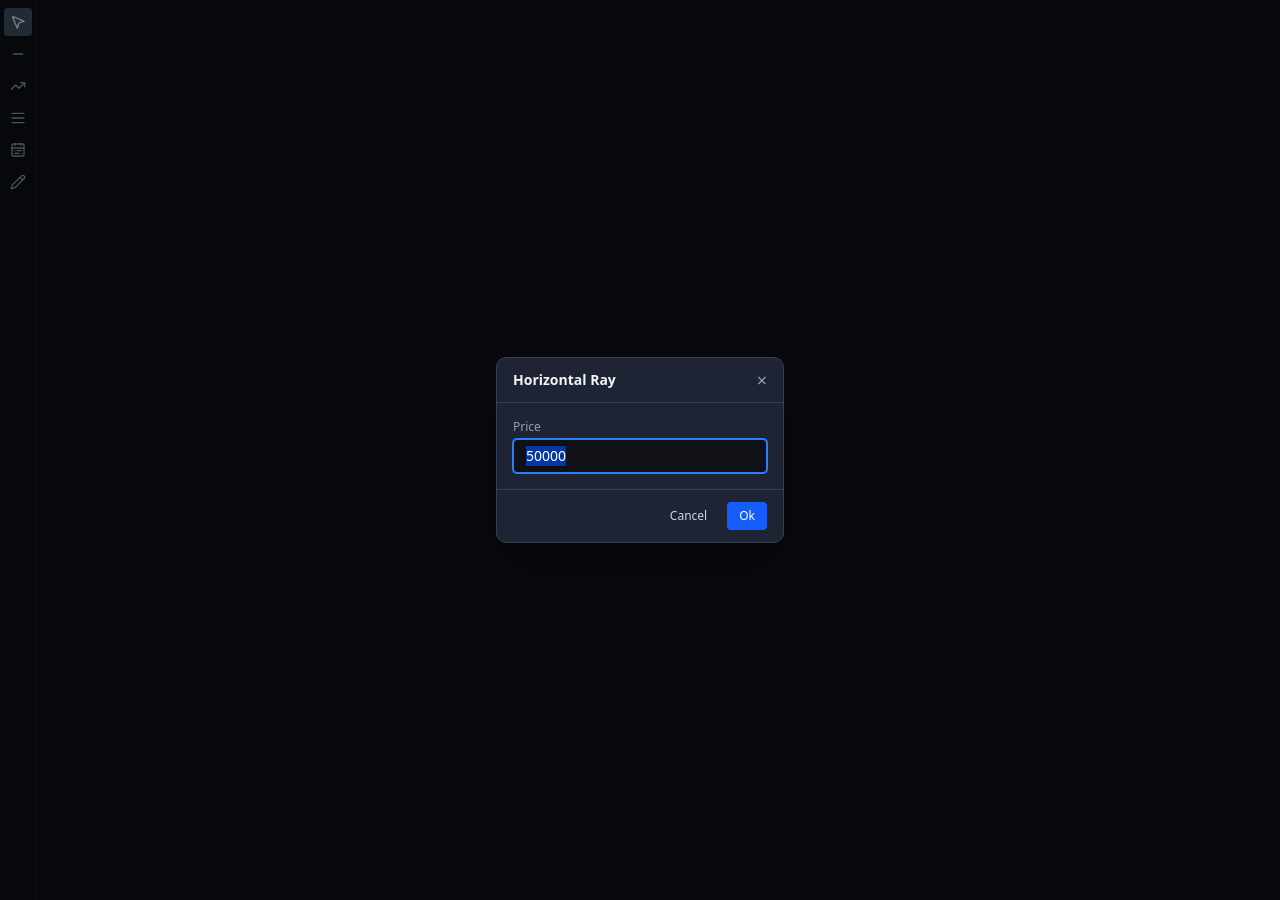
Test: DrawingEditDialog integration — horizontal_ray › cancelling closes the dialog without updating the store
This screenshot has width=1280, height=900.
Expected: the heading "Horizontal Ray" is shown, [513, 370, 616, 390]
Click the button "Cancel" at (689, 516), box [658, 502, 719, 530]
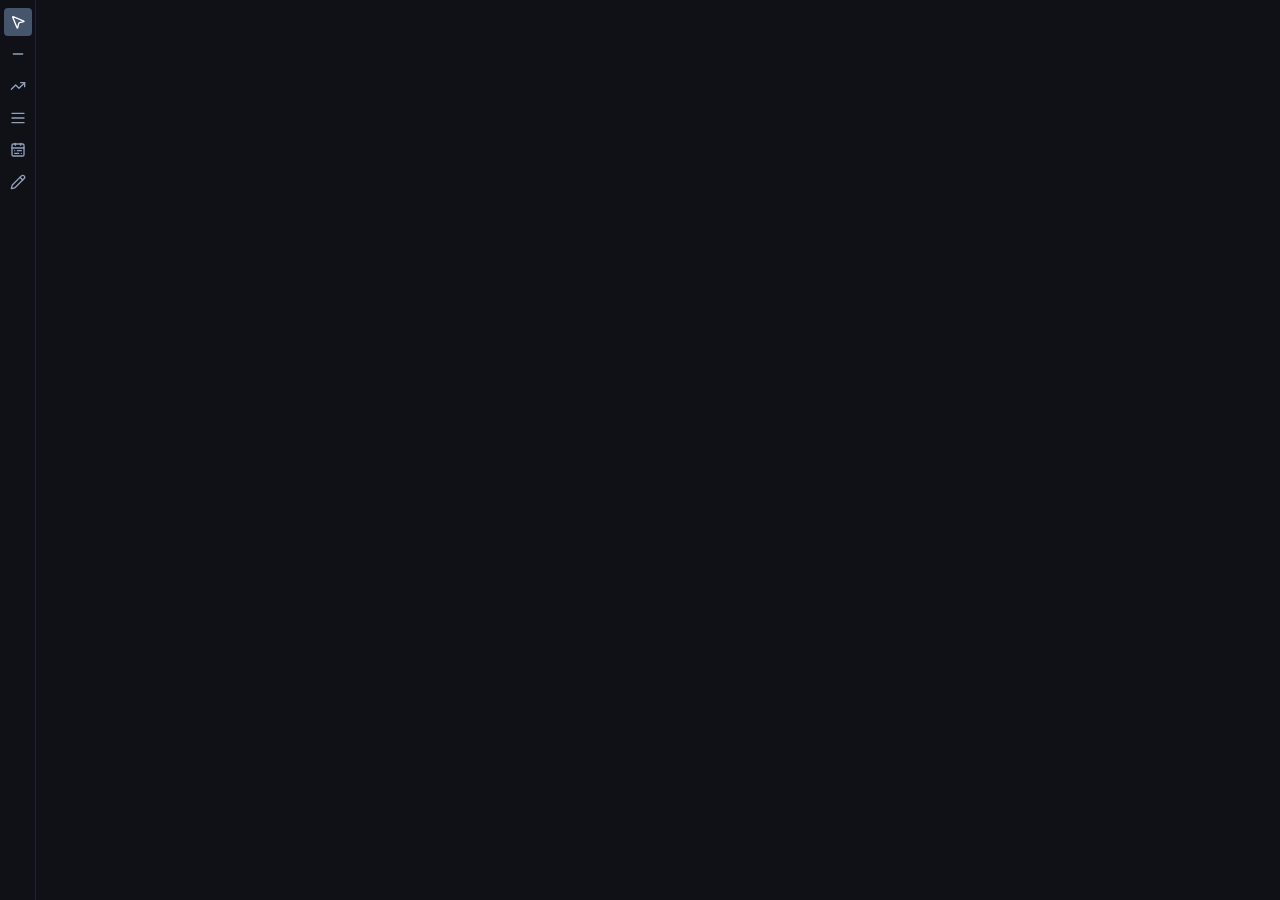
Expected: the heading "Horizontal Ray" is gone
